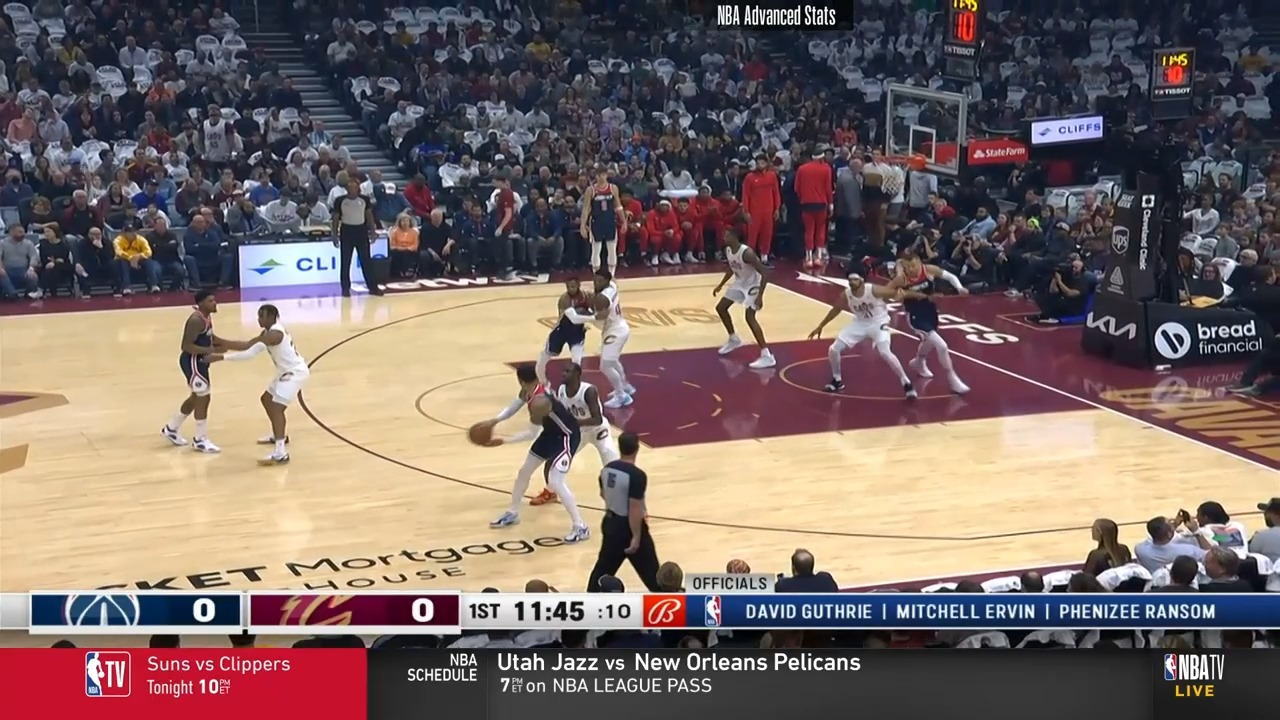net: (863, 150, 930, 200)
player: (481, 362, 602, 546), (223, 304, 319, 471), (527, 354, 620, 510), (813, 268, 918, 404), (887, 247, 977, 400), (161, 289, 226, 457), (535, 272, 606, 421), (706, 230, 771, 372), (576, 270, 633, 417), (577, 169, 636, 284)
referee: (581, 434, 662, 595), (336, 173, 387, 306)
